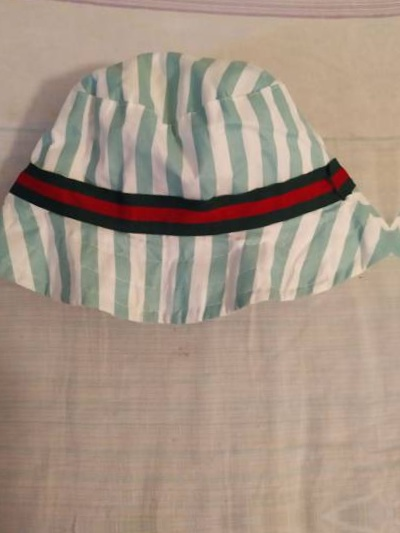Hat: (0, 47, 379, 343), (397, 25, 400, 321)
